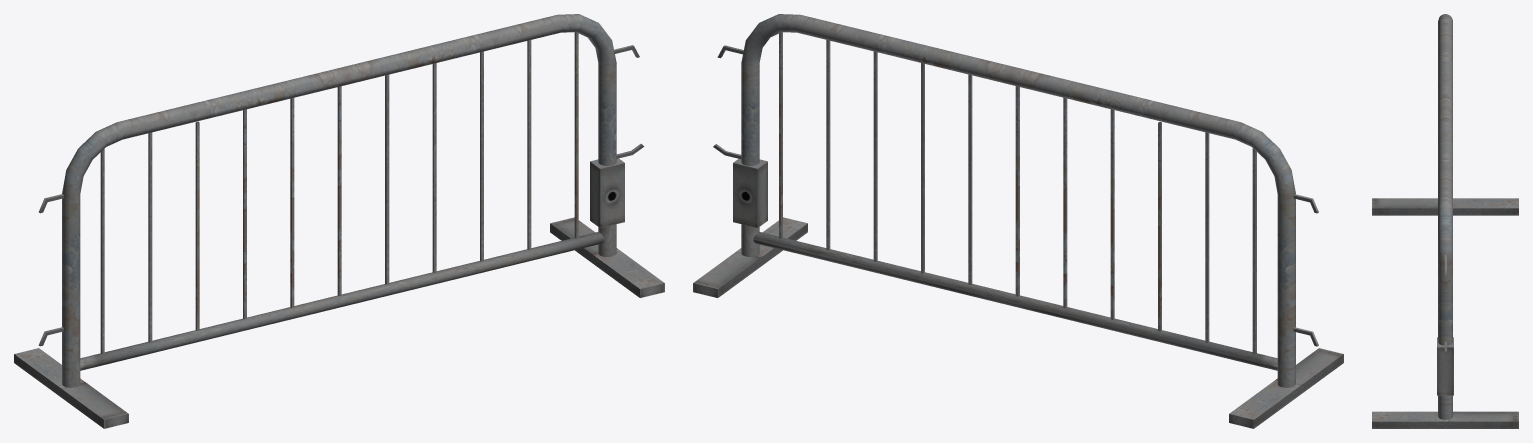
File: MetalBarricade.fbx
The picture shows the model from 3 angles, left to right: view 1: azimuth 30°, elevation 25°; view 2: azimuth 150°, elevation 25°; view 3: azimuth 270°, elevation 25°; orthographic projection. The views are drawn at different scales.
Parts seen in each view (by area): view 1: MetalBarricade; view 2: MetalBarricade; view 3: MetalBarricade.
Part boxes in pixels (x1,y1,x2,y2): MetalBarricade: (14, 14, 664, 428); MetalBarricade: (693, 14, 1343, 428); MetalBarricade: (1372, 14, 1518, 428).
Bounding box in the file's own units: 128 × 52.15 × 32.89.
